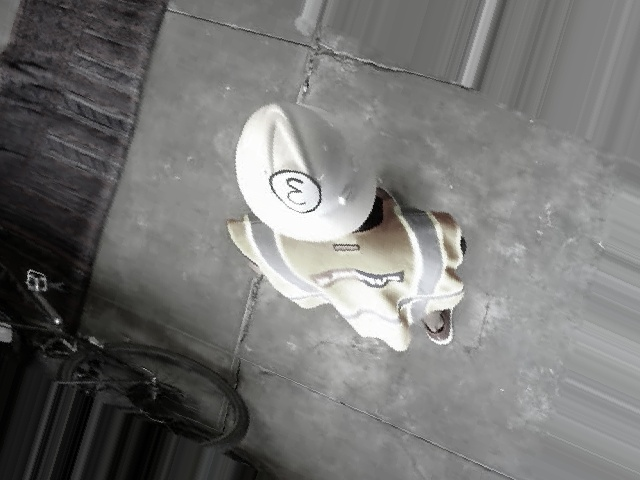three: (263, 160, 325, 220)
